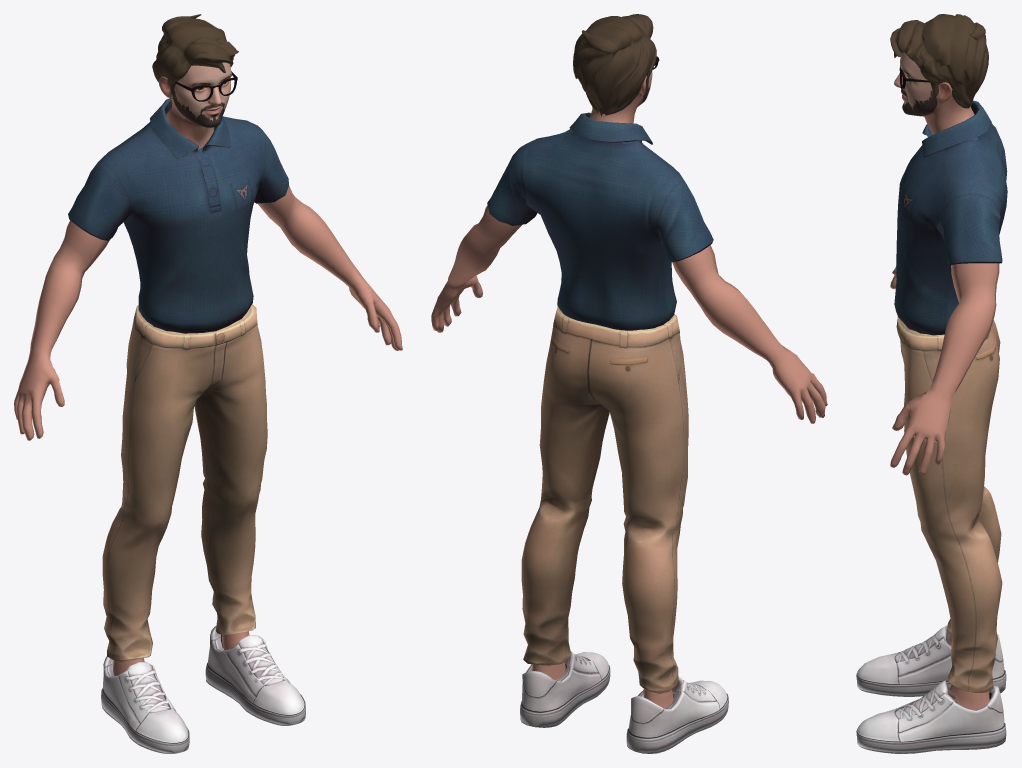
3 renders of one model, left to right at view 1: azimuth 30°, elevation 25°; view 2: azimuth 150°, elevation 25°; view 3: azimuth 270°, elevation 25°, orthographic.
Visible parts, largest first — view 1: Wolf3D_Outfit_Bottom, Wolf3D_Outfit_Top, Wolf3D_Body, Wolf3D_Outfit_Footwear, Wolf3D_Hair, Wolf3D_Head; view 2: Wolf3D_Outfit_Bottom, Wolf3D_Outfit_Top, Wolf3D_Body, Wolf3D_Outfit_Footwear, Wolf3D_Hair, Wolf3D_Head; view 3: Wolf3D_Outfit_Bottom, Wolf3D_Outfit_Top, Wolf3D_Outfit_Footwear, Wolf3D_Body, Wolf3D_Hair, Wolf3D_Head.
Boxes of the visible parts, x1=… form: Wolf3D_Outfit_Bottom: x1=102, y1=304, x2=267, y2=661; Wolf3D_Outfit_Top: x1=68, y1=98, x2=288, y2=333; Wolf3D_Body: x1=14, y1=186, x2=402, y2=675; Wolf3D_Outfit_Footwear: x1=101, y1=626, x2=305, y2=753; Wolf3D_Hair: x1=152, y1=14, x2=238, y2=98; Wolf3D_Head: x1=158, y1=62, x2=231, y2=149; Wolf3D_Outfit_Bottom: x1=521, y1=306, x2=688, y2=693; Wolf3D_Outfit_Top: x1=487, y1=112, x2=713, y2=330; Wolf3D_Body: x1=431, y1=205, x2=827, y2=708; Wolf3D_Outfit_Footwear: x1=520, y1=651, x2=728, y2=753; Wolf3D_Hair: x1=573, y1=14, x2=656, y2=116; Wolf3D_Head: x1=589, y1=71, x2=652, y2=123; Wolf3D_Outfit_Bottom: x1=896, y1=316, x2=1002, y2=692; Wolf3D_Outfit_Top: x1=894, y1=100, x2=1007, y2=335; Wolf3D_Outfit_Footwear: x1=856, y1=625, x2=1006, y2=753; Wolf3D_Body: x1=890, y1=263, x2=999, y2=709; Wolf3D_Hair: x1=890, y1=14, x2=988, y2=108; Wolf3D_Head: x1=894, y1=52, x2=974, y2=134.
Size of the model in its own units: 1.06 by 1.85 by 0.3655.
10 materials, 10 textured.
